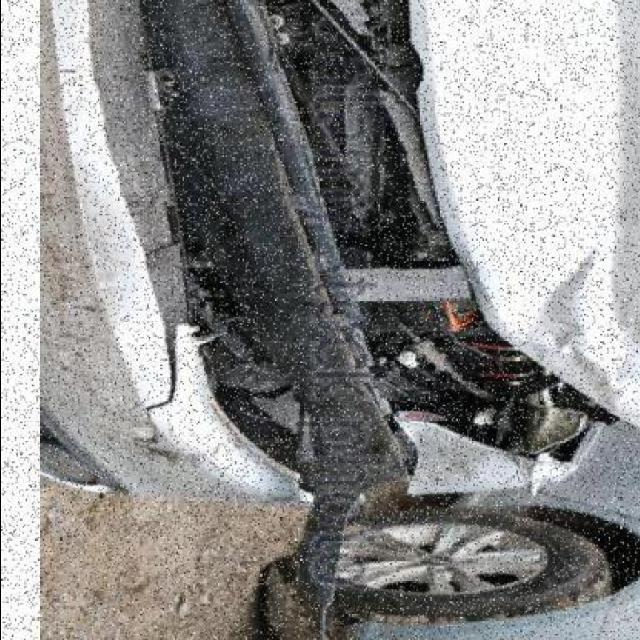front-bumper-dent: (25, 0, 303, 529)
